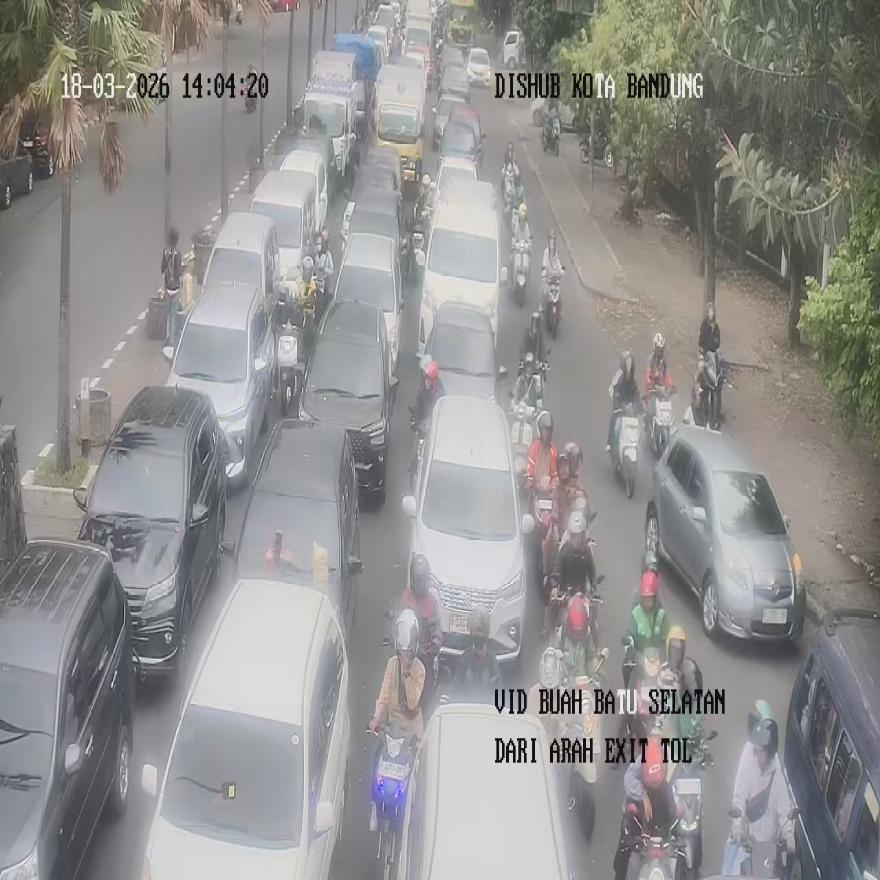Motor: (140, 580, 350, 878), (0, 539, 135, 876), (73, 385, 225, 681), (401, 396, 535, 667), (645, 422, 806, 640), (221, 418, 363, 648), (404, 702, 574, 878), (781, 608, 880, 878), (164, 281, 275, 485), (297, 298, 396, 504), (417, 176, 504, 367)
Truk: (366, 720, 418, 880), (720, 805, 797, 879), (692, 348, 726, 432), (510, 398, 536, 498), (276, 325, 304, 416), (612, 410, 640, 498), (644, 389, 675, 457), (543, 265, 564, 339), (509, 238, 529, 302), (579, 130, 613, 166), (542, 111, 560, 154), (244, 66, 257, 111)
